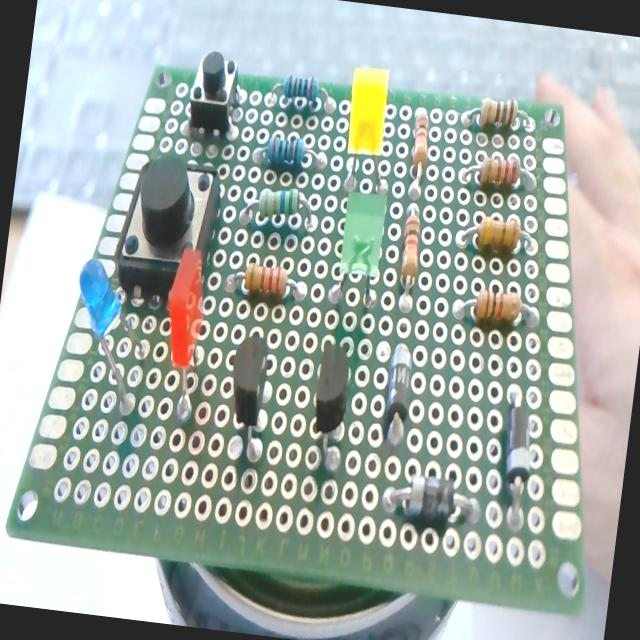diode: (493, 390, 541, 529), (381, 468, 478, 528), (380, 341, 416, 442)
led: (63, 262, 151, 414), (153, 244, 215, 427), (326, 190, 391, 314), (343, 64, 391, 156)
resistor: (452, 209, 536, 260), (452, 284, 539, 332), (238, 182, 318, 234), (224, 260, 306, 307), (392, 203, 426, 316), (402, 106, 434, 207), (460, 92, 534, 135), (270, 71, 338, 117), (460, 150, 530, 193), (262, 129, 310, 174)
switch: (112, 148, 226, 311), (185, 47, 242, 136)
transistor: (220, 330, 276, 462), (304, 340, 356, 470)
